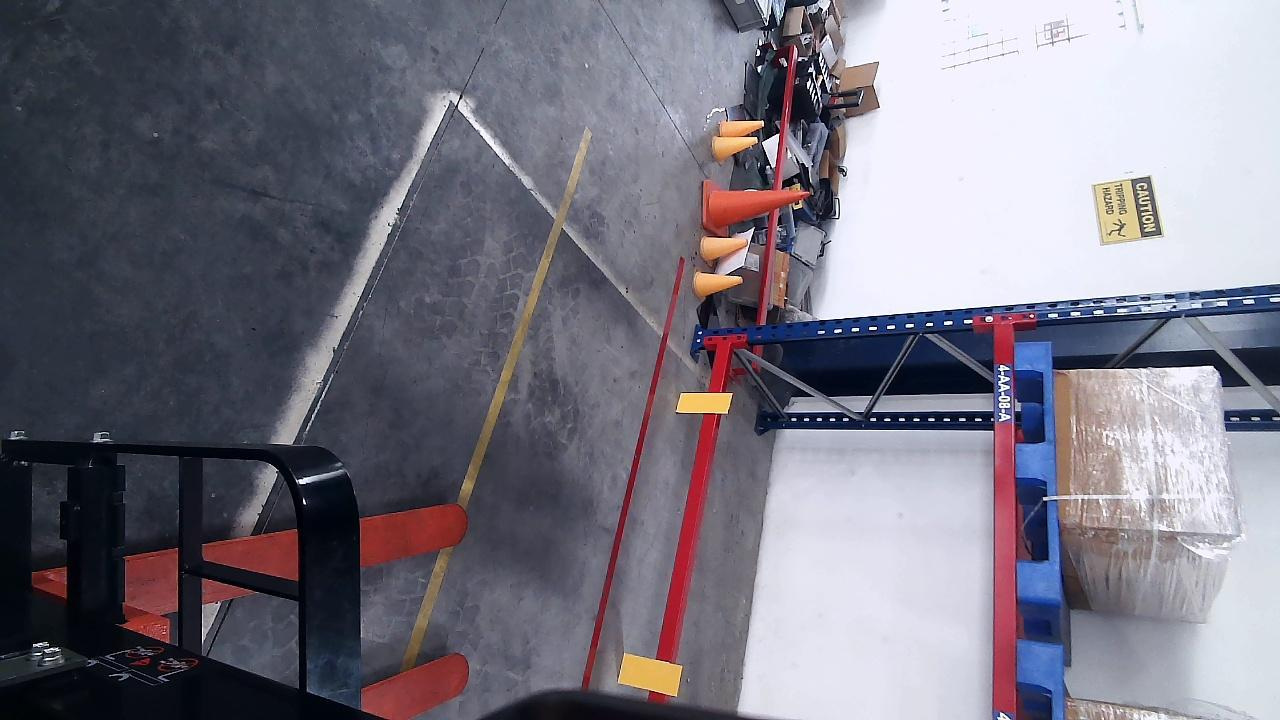h_rack: (647, 346, 728, 704), (991, 323, 1014, 717)
orange_strip: (616, 652, 683, 693), (675, 391, 734, 415)
red_line: (578, 256, 689, 687)
small_pallet: (1015, 341, 1057, 599), (1018, 642, 1066, 720)
yellow_line: (455, 124, 595, 512)
